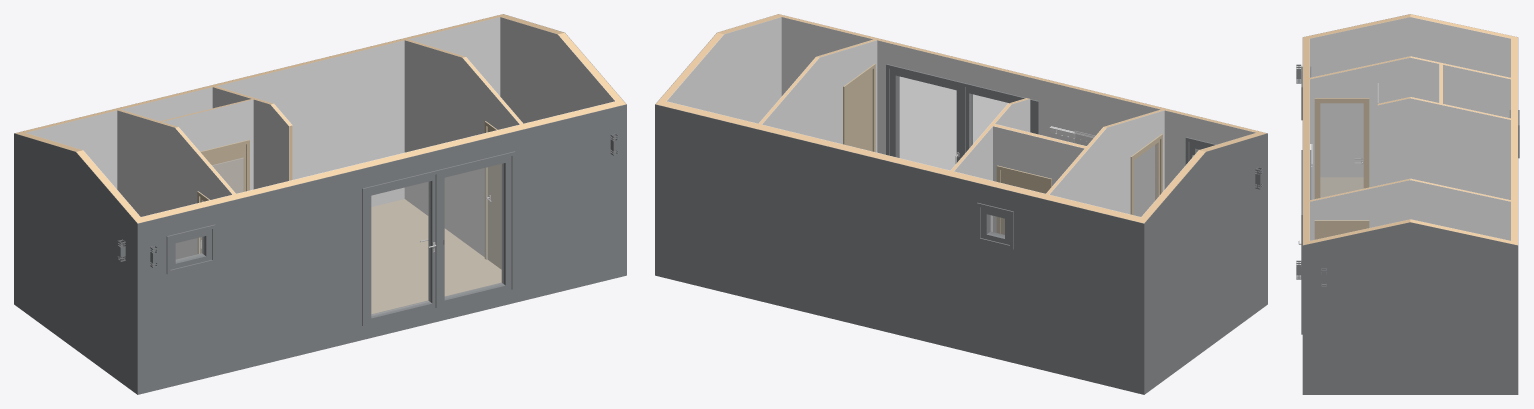
Rendered from Pirtis_(3,5x8,0)_R00.fbx.
The picture shows the model from 3 angles, left to right: view 1: azimuth 30°, elevation 25°; view 2: azimuth 150°, elevation 25°; view 3: azimuth 270°, elevation 25°; orthographic projection. The views are drawn at different scales.
Visible parts, largest first — view 1: IfcWall/Part:2319977, IfcWall/Part:2368366, IfcWall/Part:2397154, IfcWall/Part:2642272, IfcWindow/Langai (Akrusta):1200x2100x120 (kairinis):2632484, IfcDoor/Durys išorinės:1200x2100x120 (kairinės):2439432, IfcSlab/Part:2319985, IfcWall/Part:2635882, IfcWall/Part:2397151, IfcWall/Part:2319978, IfcWall/Part:2642587, IfcWall/Part:2636866 (+7 smaller); view 2: IfcWall/Part:2397155, IfcWall/Part:2368366, IfcWall/Part:2319976, IfcWall/Part:2397151, IfcWindow/Langai (Akrusta):1200x2100x120 (kairinis):2632484, IfcWall/Part:2642272, IfcWall/Part:2635882, IfcWall/Part:2642588, IfcWall/Part:2397156, IfcDoor/Durys vidinės:800x2100 x 120 (dešininės):2663836, IfcDoor/Durys išorinės:1200x2100x120 (kairinės):2439432, IfcDoor/Durys vidinės:800x2100 x 120 (dešininės) stiklines:2 (+7 smaller); view 3: IfcWall/Part:2397152, IfcWall/Part:2368365, IfcWall/Part:2636865, IfcWall/Part:2642271, IfcWall/Part:2635881, IfcDoor/Durys vidinės:800x2100 x 120 (dešininės) stiklines:2, IfcWall/Part:2637351, IfcWall/Part:2397156, IfcWall/Part:2319978, IfcDoor/Durys vidinės:800x2100 x 120 (dešininės):2663836, IfcWall/Part:2397153, IfcSlab/Part:2319985 (+7 smaller).
Boxes of the visible parts, box(x1,y1,x2,y2) form: IfcWall/Part:2319977: box(137, 104, 626, 394); IfcWall/Part:2368366: box(14, 133, 137, 394); IfcWall/Part:2397154: box(25, 17, 500, 206); IfcWall/Part:2642272: box(404, 40, 519, 256); IfcWindow/Langai (Akrusta):1200x2100x120 (kairinis):2632484: box(435, 151, 515, 308); IfcDoor/Durys išorinės:1200x2100x120 (kairinės):2439432: box(362, 170, 441, 326); IfcSlab/Part:2319985: box(371, 199, 501, 313); IfcWall/Part:2635882: box(117, 110, 232, 259); IfcWall/Part:2397151: box(500, 17, 614, 123); IfcWall/Part:2319978: box(134, 101, 619, 223); IfcWall/Part:2642587: box(162, 99, 253, 190); IfcWall/Part:2636866: box(253, 99, 289, 189); IfcWall/Part:2397155: box(655, 104, 1144, 394); IfcWall/Part:2368366: box(1144, 133, 1267, 394); IfcWall/Part:2319976: box(781, 17, 1256, 216); IfcWall/Part:2397151: box(667, 17, 781, 123); IfcWindow/Langai (Akrusta):1200x2100x120 (kairinis):2632484: box(886, 64, 965, 169); IfcWall/Part:2642272: box(762, 40, 877, 152); IfcWall/Part:2635882: box(1049, 110, 1164, 214); IfcWall/Part:2642588: box(993, 126, 1084, 232); IfcWall/Part:2397156: box(656, 99, 1147, 223); IfcDoor/Durys vidinės:800x2100 x 120 (dešininės):2663836: box(843, 63, 875, 152); IfcDoor/Durys išorinės:1200x2100x120 (kairinės):2439432: box(959, 82, 1038, 159); IfcDoor/Durys vidinės:800x2100 x 120 (dešininės) stiklines:2: box(1130, 134, 1162, 216); IfcWall/Part:2397152: box(1302, 222, 1517, 394); IfcWall/Part:2368365: box(1310, 17, 1510, 176); IfcWall/Part:2636865: box(1377, 98, 1510, 199); IfcWall/Part:2642271: box(1310, 180, 1510, 240); IfcWall/Part:2635881: box(1310, 57, 1439, 199); IfcDoor/Durys vidinės:800x2100 x 120 (dešininės) stiklines:2: box(1314, 98, 1369, 198); IfcWall/Part:2637351: box(1443, 64, 1510, 117); IfcWall/Part:2397156: box(1511, 36, 1517, 245); IfcWall/Part:2319978: box(1303, 36, 1309, 242); IfcDoor/Durys vidinės:800x2100 x 120 (dešininės):2663836: box(1314, 220, 1369, 239); IfcWall/Part:2397153: box(1303, 219, 1510, 245); IfcSlab/Part:2319985: box(1320, 177, 1363, 197).
Size of the model in its own units: 820 by 309 by 362.
